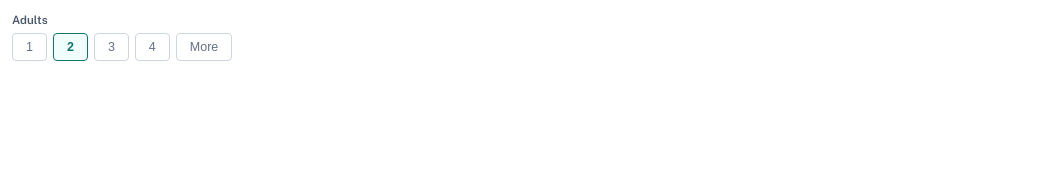
Test: a small whole number › closes the field when a segment is chosen again
Step 1. Click the button "More" → (204, 47), box [176,33,232,61]
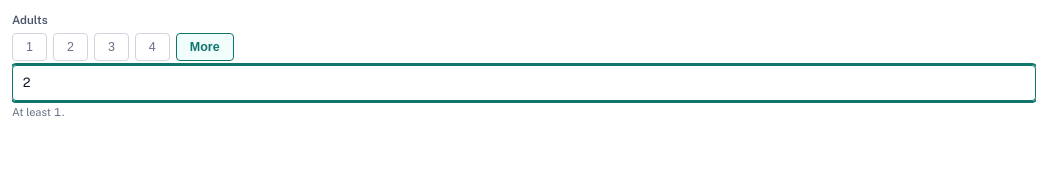
Step 2. Click the button "3" → (111, 47), box [94,33,129,61]
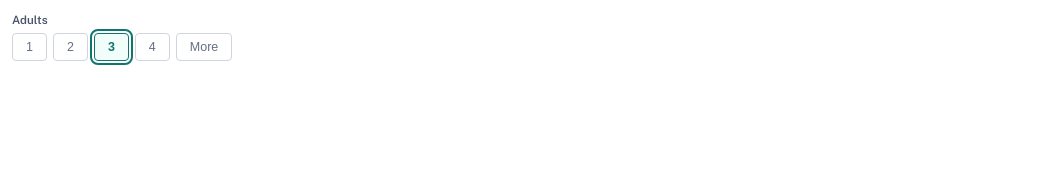
Expected: the field is gone
